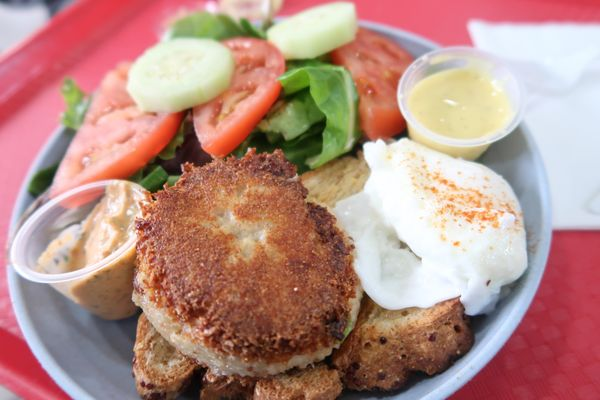soup: (130, 148, 364, 393)
sushi: (8, 179, 153, 322), (396, 47, 524, 160)
